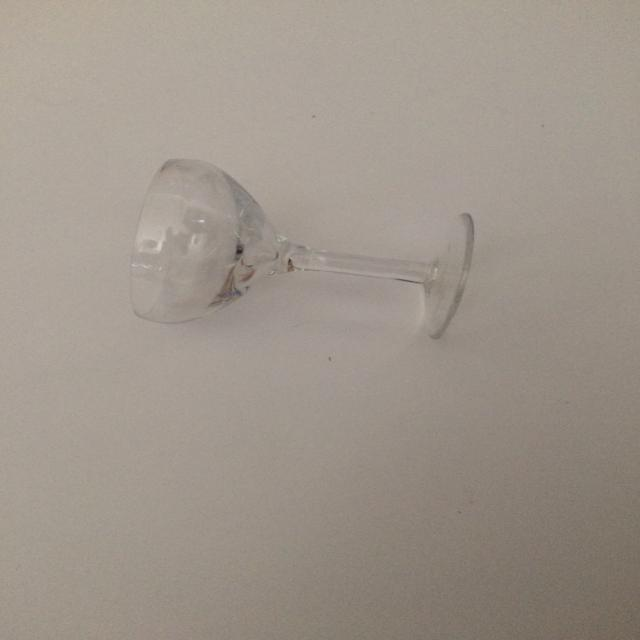glass: (128, 157, 477, 340)
